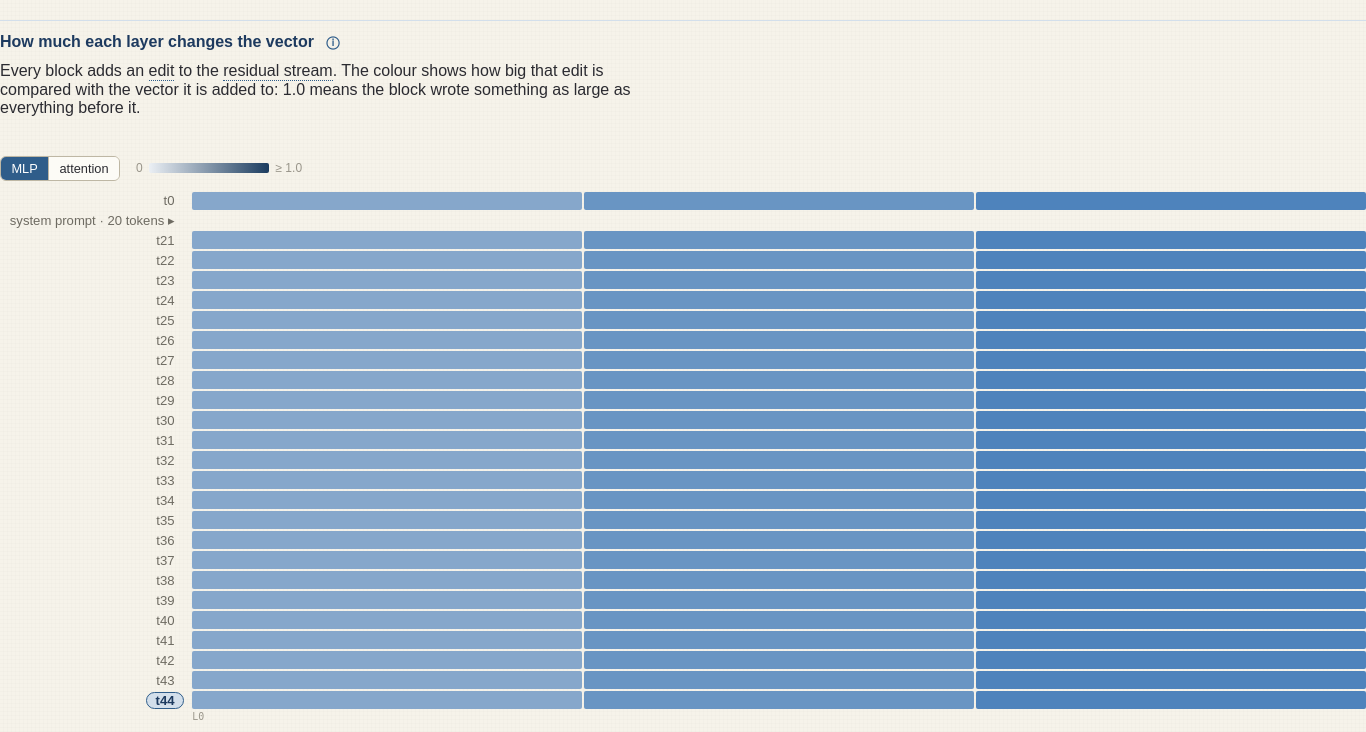
Scenario: a chat run folds the system rows into one row that opens on click
Click the button with test id "edit-fold". click: click(92, 220)
box: 0,212 -> 184,229
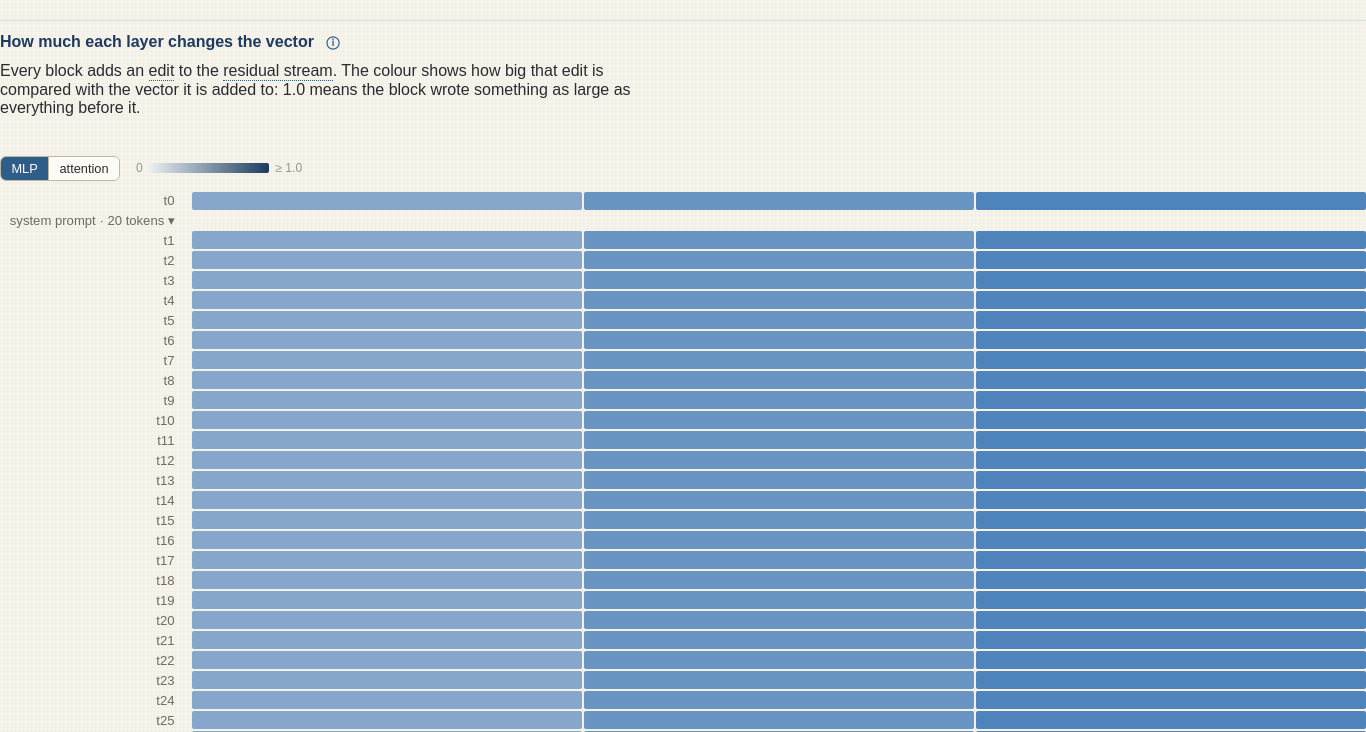
Expected: the number of buttons with test id "edit-row-label" is 45
